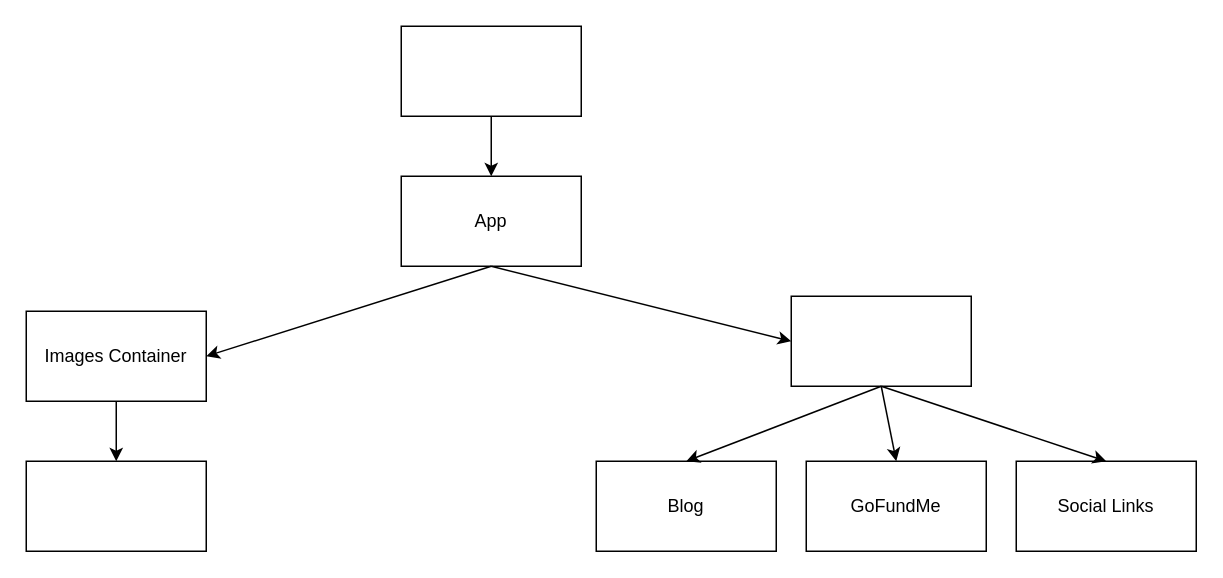
This 1223x578 diagram has some shape labels left out. Each missing label, with the centre of its shape:
"Images" goes at (115,505).
"Menu Container" goes at (880,340).
"Mountain Men" goes at (490,70).
